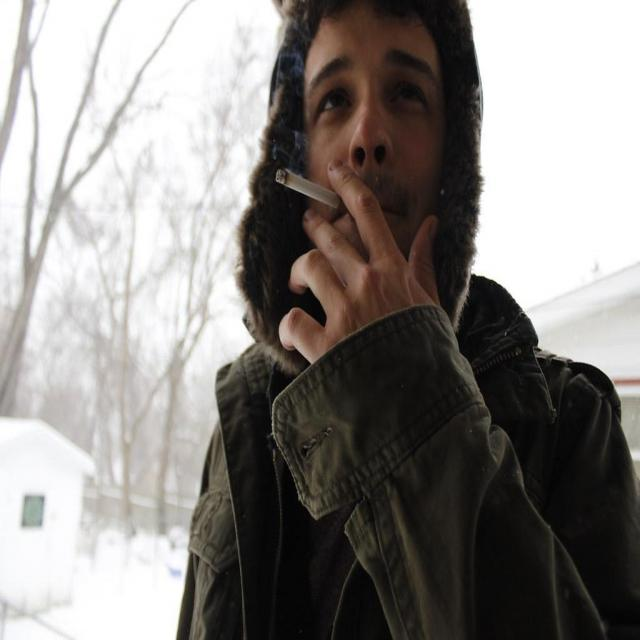Сигарета: (274, 166, 342, 210)
Тело: (201, 3, 623, 640)
